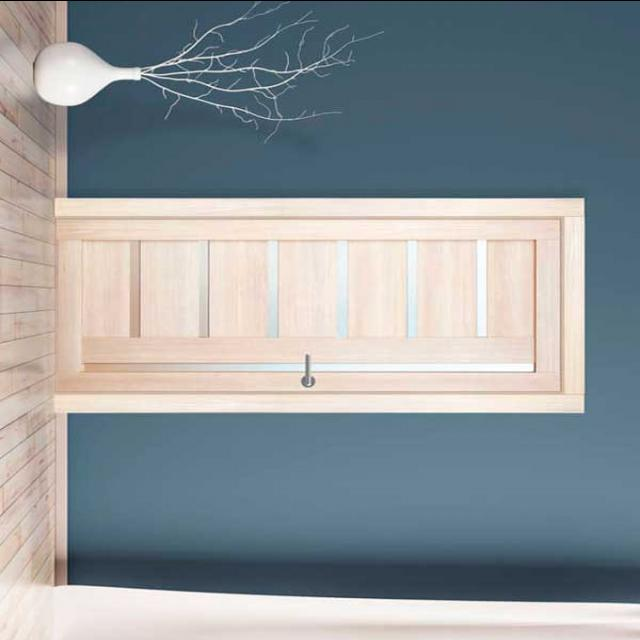close: (62, 204, 566, 391)
